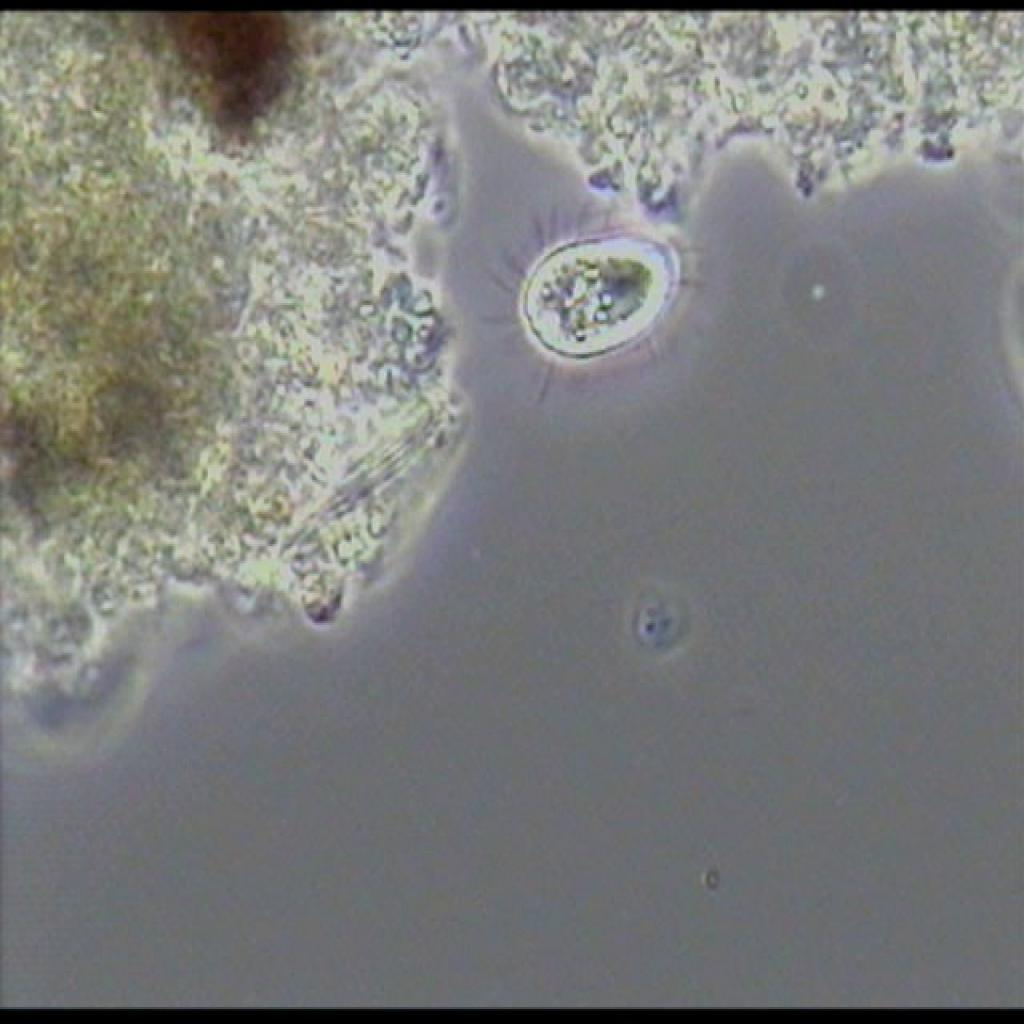Cyclidium: (472, 202, 714, 426)
